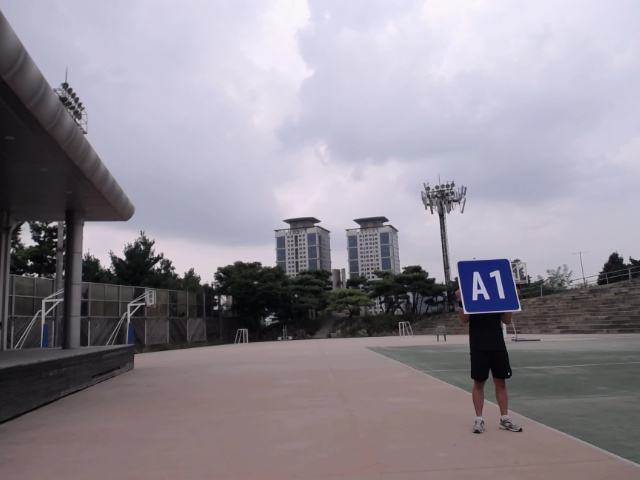delivery_a1: (457, 258, 520, 313)
